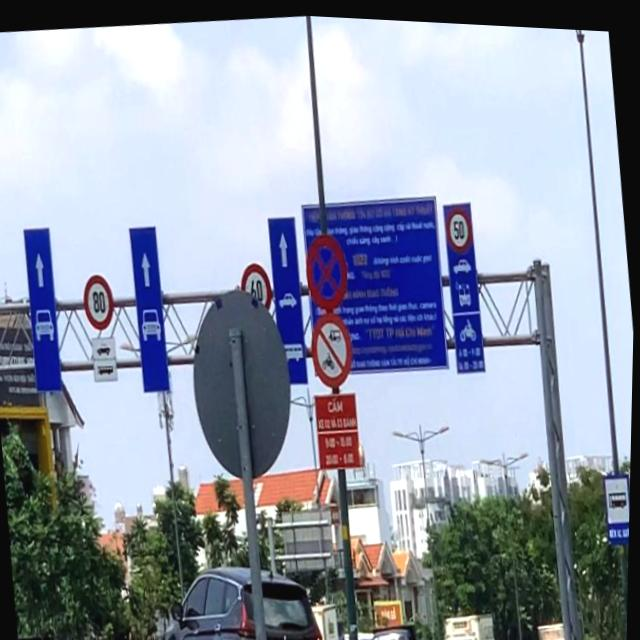Ben xe buyt: (602, 464, 632, 539)
Cam dung xe va do xe: (302, 228, 353, 310)
Toc do toi da cho phep: (81, 270, 118, 332), (238, 257, 275, 316), (444, 200, 475, 250)
